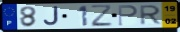1: (78, 5, 89, 27)
8: (19, 6, 38, 28)
J: (42, 6, 61, 27)
P: (117, 4, 139, 26)
R: (139, 4, 163, 26)
Z: (89, 4, 114, 28)
